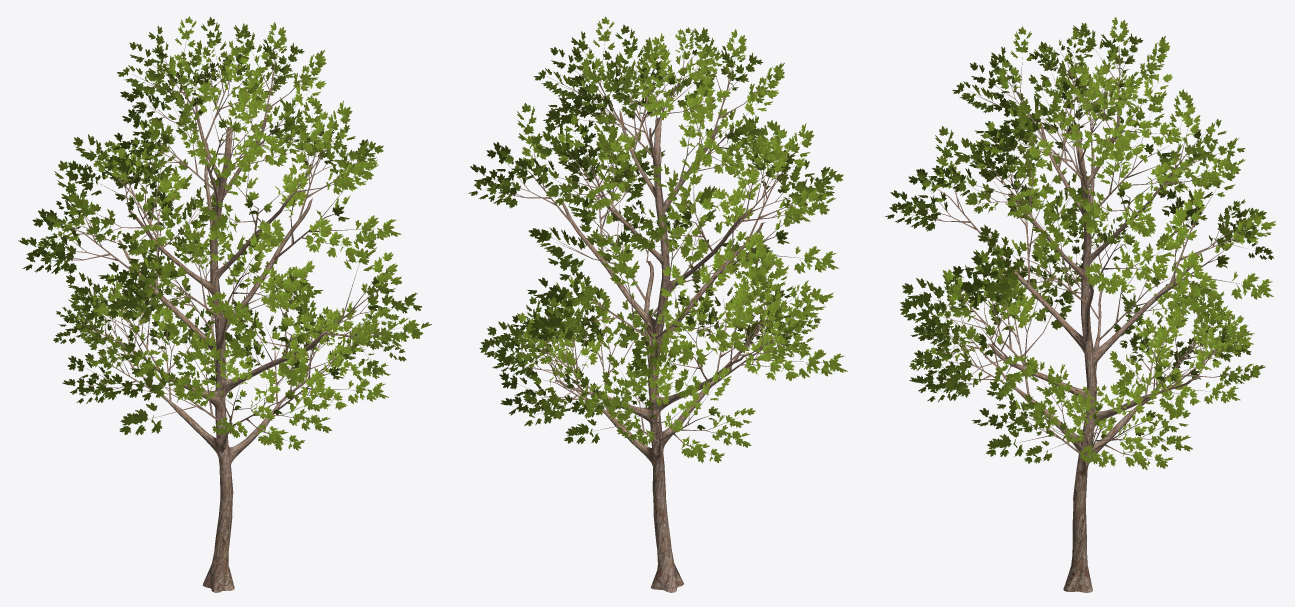
Rendered from maple5.obj.
The picture shows the model from 3 angles, left to right: view 1: azimuth 30°, elevation 25°; view 2: azimuth 150°, elevation 25°; view 3: azimuth 270°, elevation 25°; orthographic projection.
Parts seen in each view (by area): view 1: leaf maple, bark02; view 2: leaf maple, bark02; view 3: leaf maple, bark02.
Part boxes in pixels (left/top/right/bottom): leaf maple: left=18, top=16, right=431, bottom=450; bark02: left=45, top=41, right=407, bottom=592; leaf maple: left=468, top=16, right=847, bottom=462; bark02: left=492, top=38, right=822, bottom=592; leaf maple: left=885, top=17, right=1275, bottom=469; bark02: left=903, top=45, right=1250, bottom=592.
Size of the model in its own units: 582 by 949 by 606.
2 materials, 2 textured.
